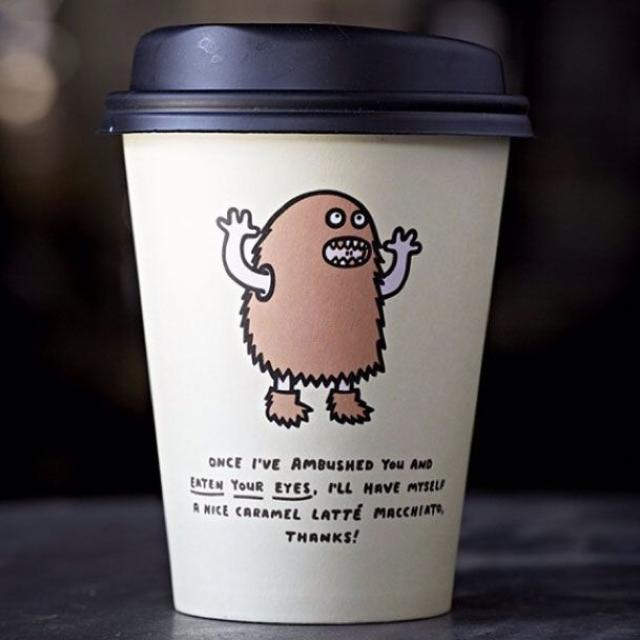paper cup: (103, 24, 534, 624)
